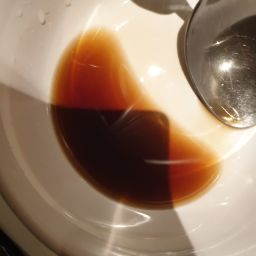Balsamic vinegar: (53, 17, 223, 241), (65, 45, 159, 201), (31, 40, 116, 211), (93, 100, 225, 209)
